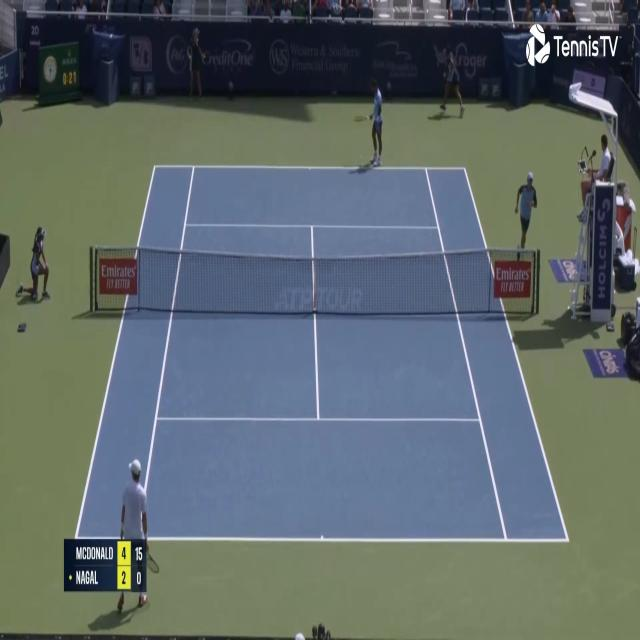tennis-player: (117, 456, 161, 621), (352, 75, 384, 169)
